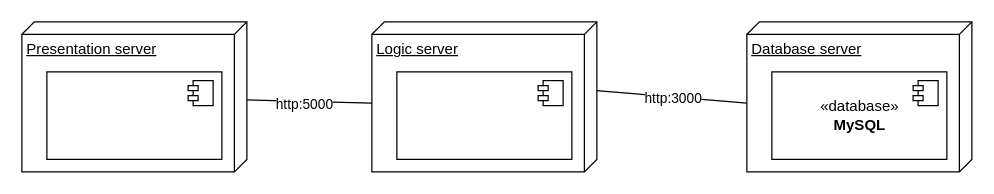
The diagram is 994 pixels wide and 194 high, and some of its shapes have lost their labels. Here are the shapes that lost their labels. From the top down, the centre of each, then its label:
At point (134, 115): "«framework» React".
At point (484, 115): "«artifacts» app.js".
